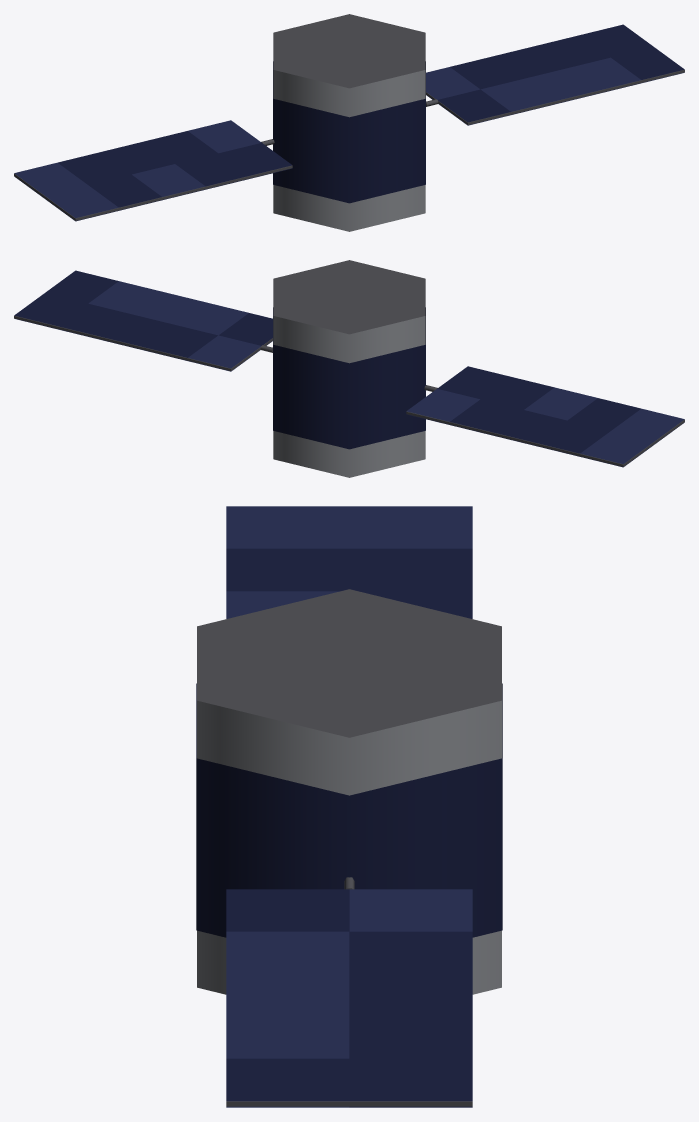
File: gen-hex-pan.obj
The picture shows the model from 3 angles, top to bottom: view 1: azimuth 30°, elevation 25°; view 2: azimuth 150°, elevation 25°; view 3: azimuth 270°, elevation 25°; orthographic projection. The views are drawn at different scales.
Parts seen in each view (by area): view 1: gen-hex-pan; view 2: gen-hex-pan; view 3: gen-hex-pan.
Part boxes in pixels (bbox=[...]): gen-hex-pan: bbox=[14, 14, 684, 231]; gen-hex-pan: bbox=[14, 260, 684, 477]; gen-hex-pan: bbox=[196, 506, 502, 1107].
Bounding box in the file's own units: 8 × 1.8 × 1.74.
